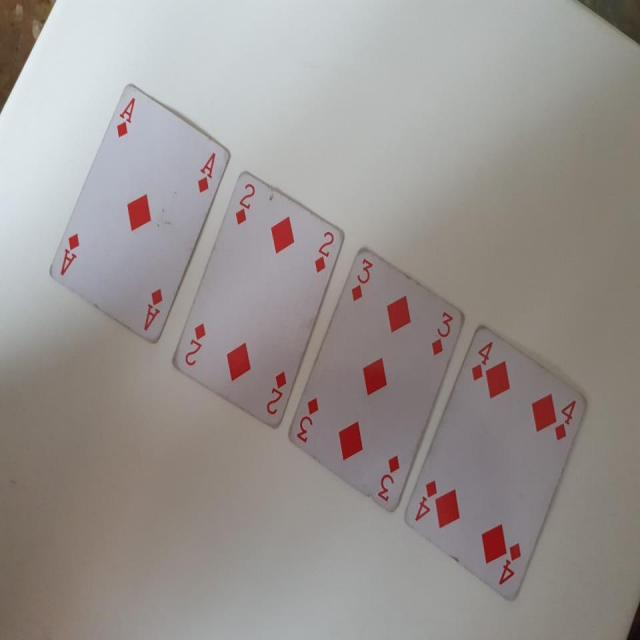2 Diamonds: (163, 172, 343, 433)
3 Diamonds: (285, 246, 465, 519)
4 Diamonds: (405, 322, 590, 604)
A Diamonds: (35, 77, 235, 354)
